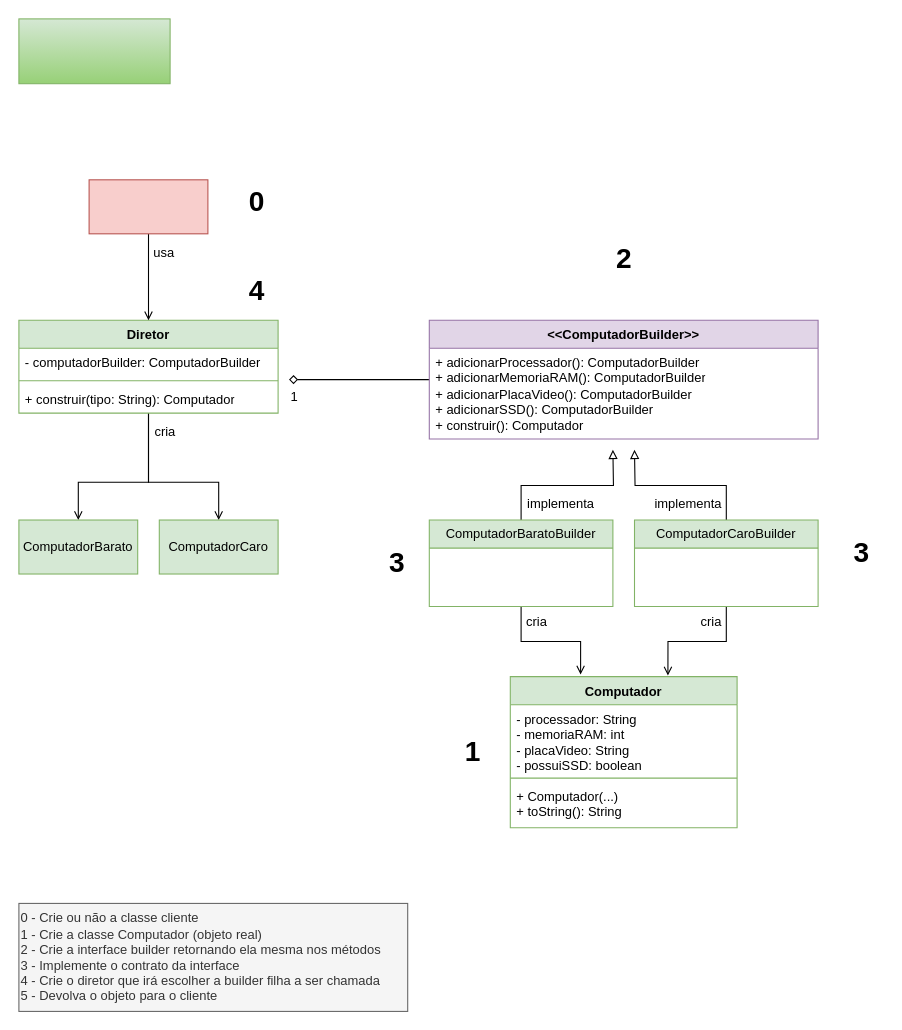
The diagram is 902 pixels wide and 1030 high, and some of its shapes have lost their labels. The centre of each missing label's shape, as x and y in pixels:
"Builder" goes at point 94,51.
"Cliente (App.java)" goes at point 148,206.
